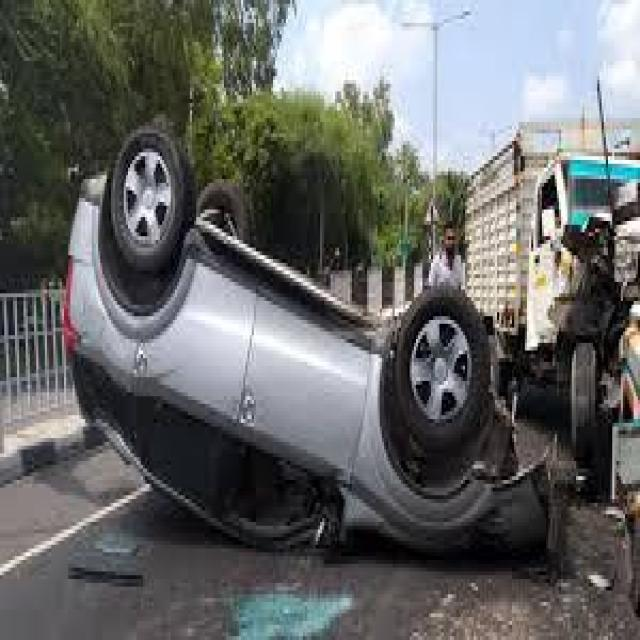severe: (58, 120, 556, 562)
